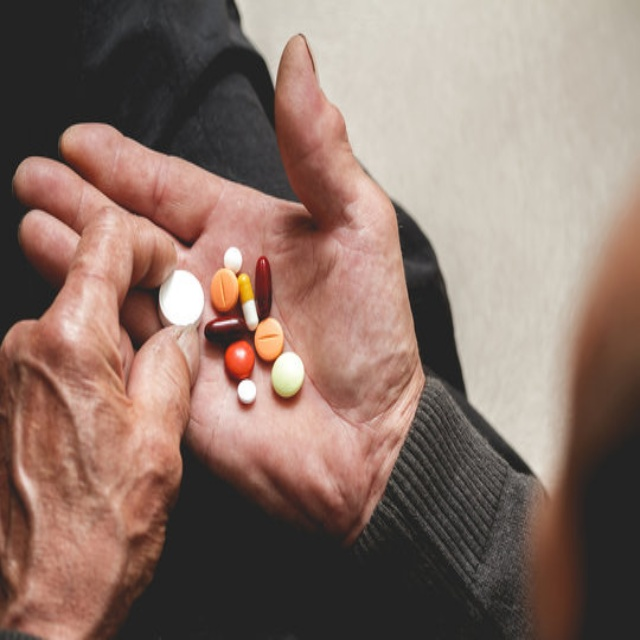pill: (131, 151, 172, 188), (228, 197, 258, 225), (189, 189, 217, 215), (215, 178, 240, 206), (178, 150, 202, 175), (200, 154, 218, 187), (172, 177, 209, 193), (215, 144, 230, 182), (188, 138, 205, 154), (201, 212, 217, 228)
